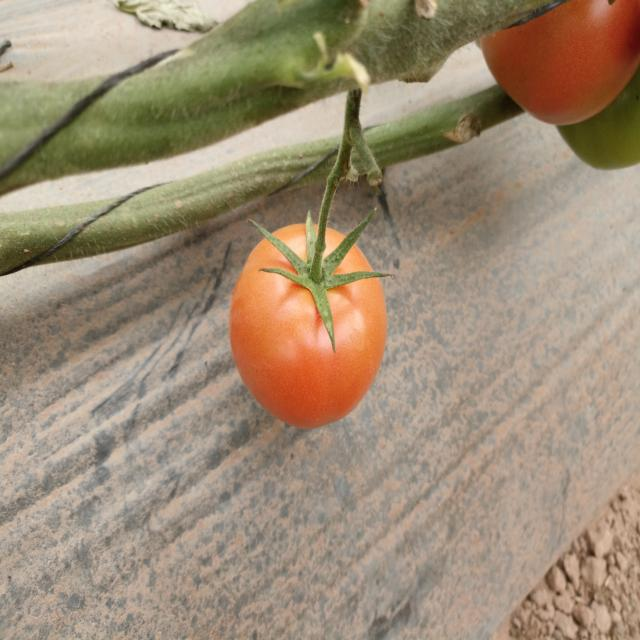Ripe Tomato: (234, 218, 384, 428)
